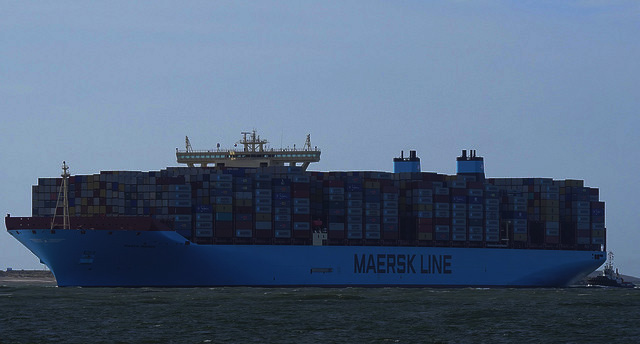container_ship: (7, 127, 608, 296)
tug_boat: (588, 249, 634, 291)
